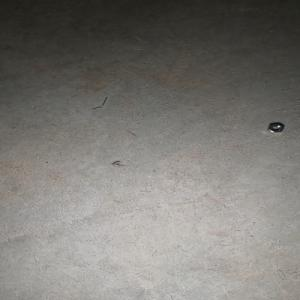Nut: (265, 121, 283, 132)
